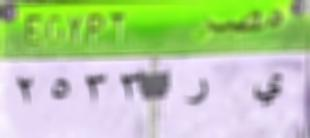2: (15, 75, 38, 109)
3: (81, 68, 111, 113), (116, 69, 144, 106)
5: (48, 74, 72, 107)
raa: (181, 75, 214, 113)
yaa: (249, 69, 284, 112)
